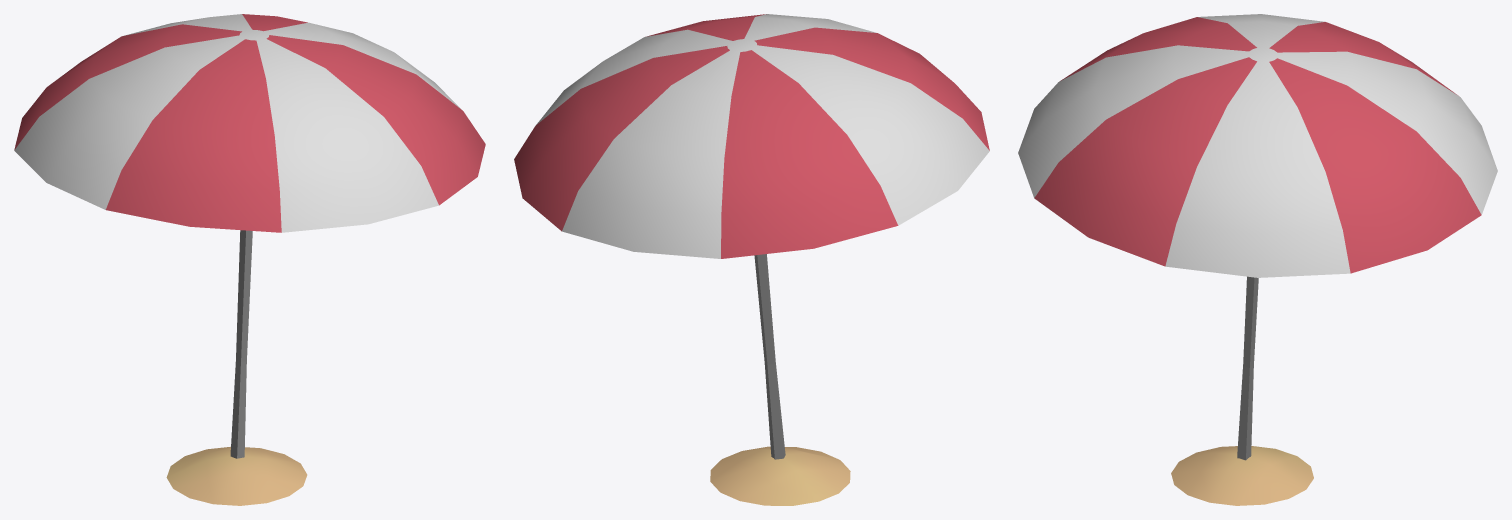
File: BeachUmbrella2.fbx
The picture shows the model from 3 angles, left to right: view 1: azimuth 30°, elevation 25°; view 2: azimuth 150°, elevation 25°; view 3: azimuth 270°, elevation 25°; orthographic projection.
Parts seen in each view (by area): view 1: Circle.048; view 2: Circle.048; view 3: Circle.048.
Boxes of the visible parts, left/top/right/bottom form: Circle.048: left=14, top=14, right=485, bottom=505; Circle.048: left=514, top=14, right=989, bottom=505; Circle.048: left=1018, top=14, right=1497, bottom=505.
Size of the model in its own units: 499 by 500 by 500.
